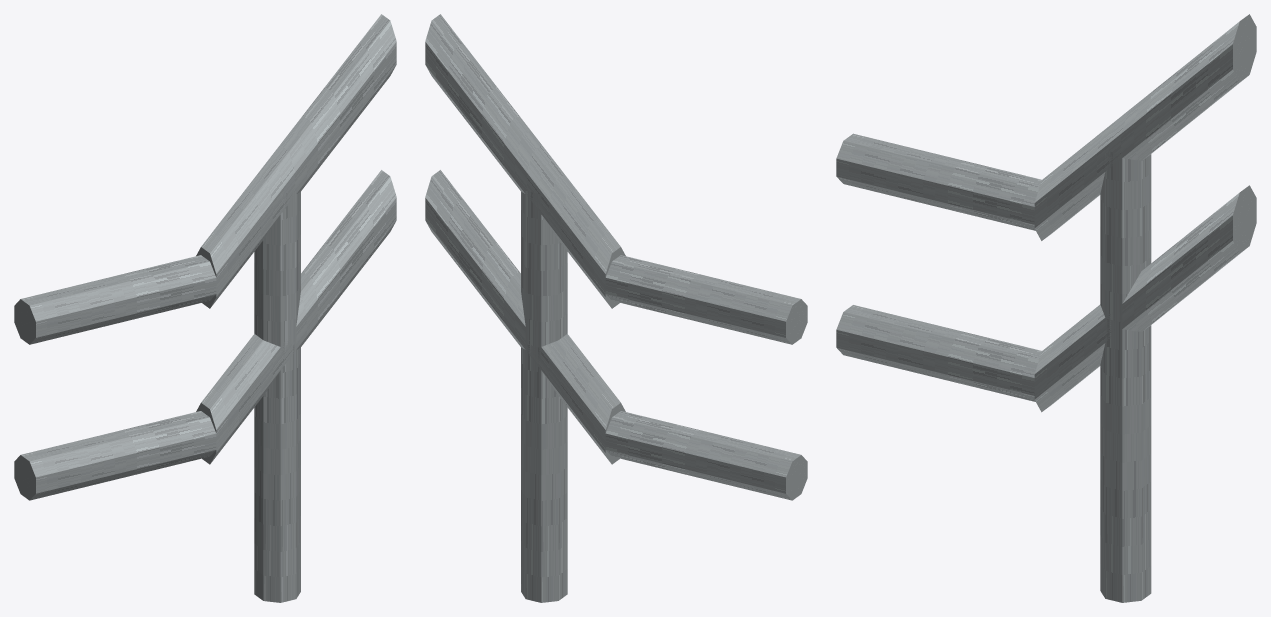
Rendered from foot_pos.obj.
3 views of the same model, side by side, from view 1: azimuth 30°, elevation 25°; view 2: azimuth 150°, elevation 25°; view 3: azimuth 330°, elevation 25° (orthographic). The views are drawn at different scales.
Visible parts, largest first — view 1: railing_pipe_galvanized_foot_pos; view 2: railing_pipe_galvanized_foot_pos; view 3: railing_pipe_galvanized_foot_pos.
Part boxes in pixels (<box>): railing_pipe_galvanized_foot_pos: <box>14,14,396,602</box>; railing_pipe_galvanized_foot_pos: <box>425,14,807,602</box>; railing_pipe_galvanized_foot_pos: <box>836,14,1256,602</box>.
Size of the model in its own units: 1 by 1.45 by 0.1039.
